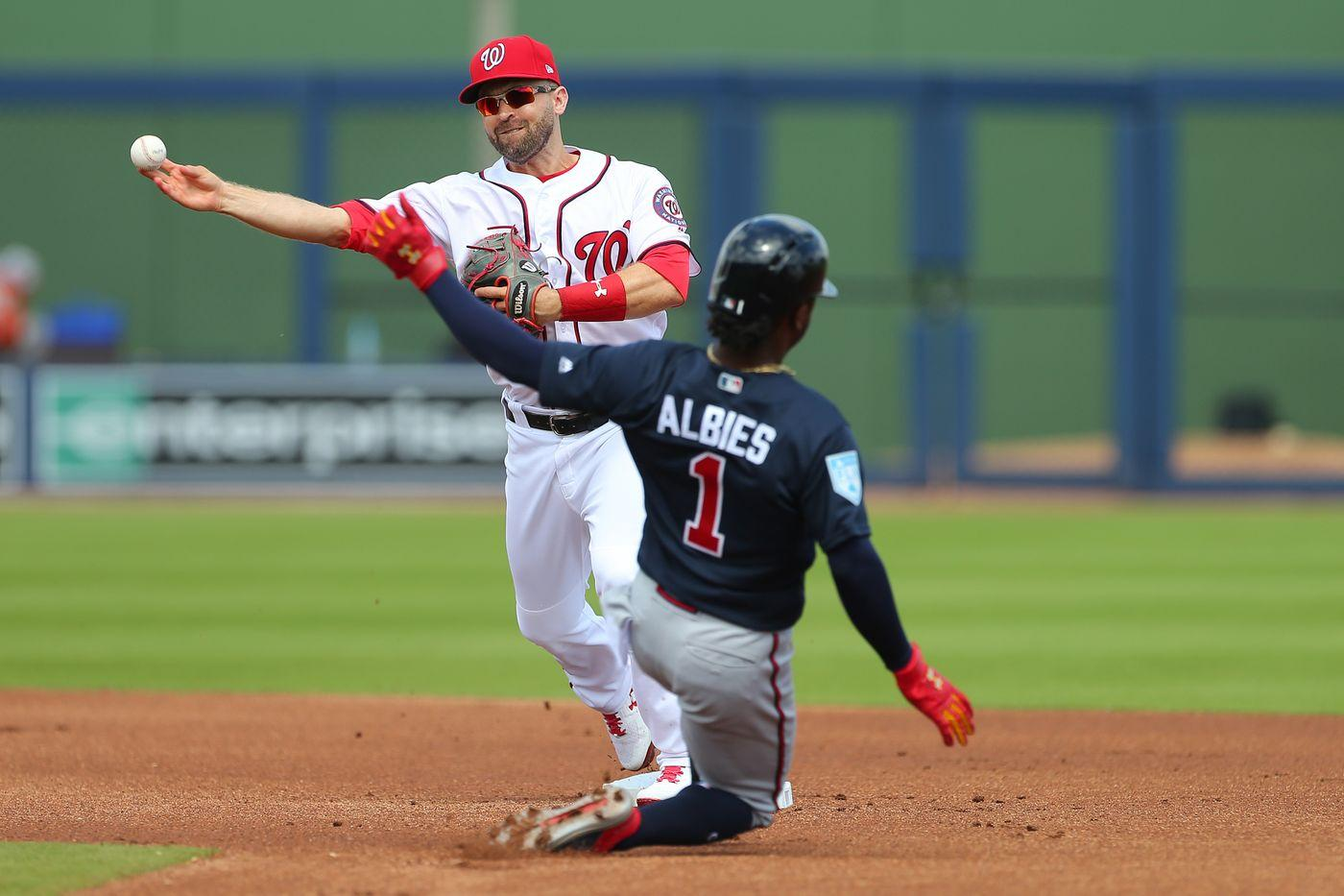baseball: (129, 134, 167, 172)
